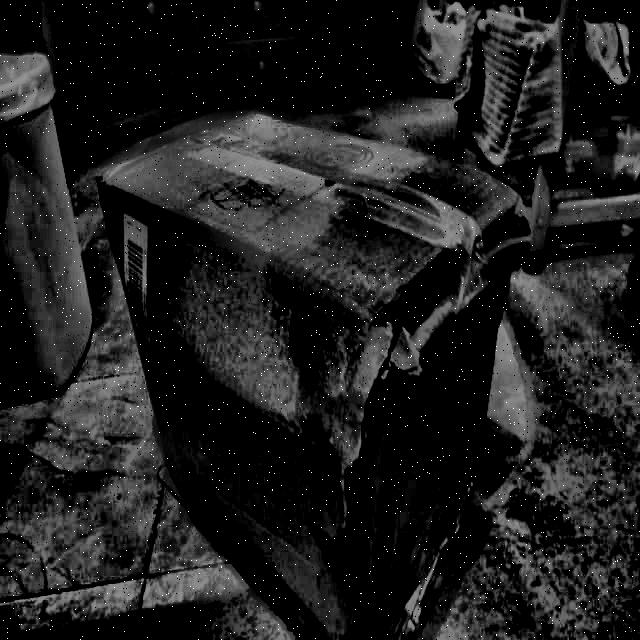box: (103, 91, 545, 640)
wet: (273, 157, 517, 530)
